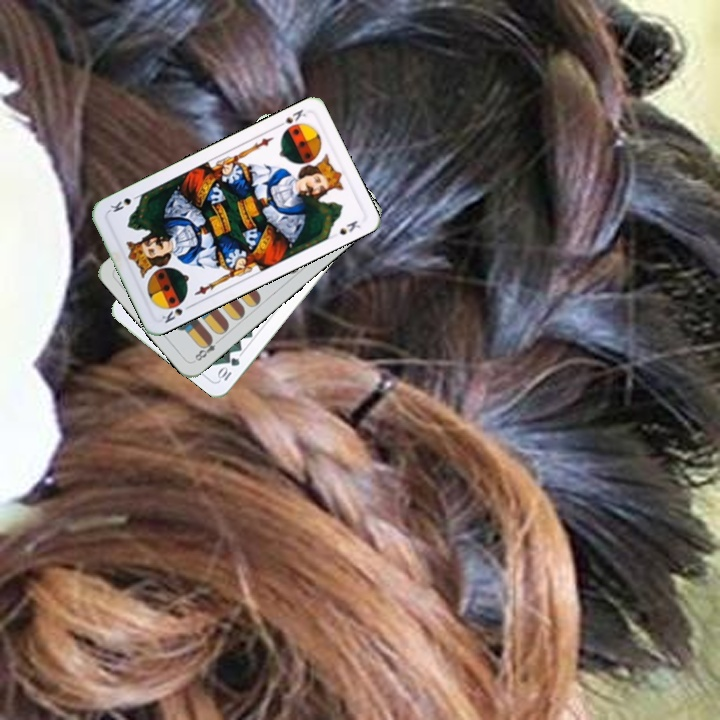E8: (191, 333, 224, 364)
G10: (214, 353, 243, 383)
SK: (157, 300, 195, 326), (272, 105, 309, 131)
